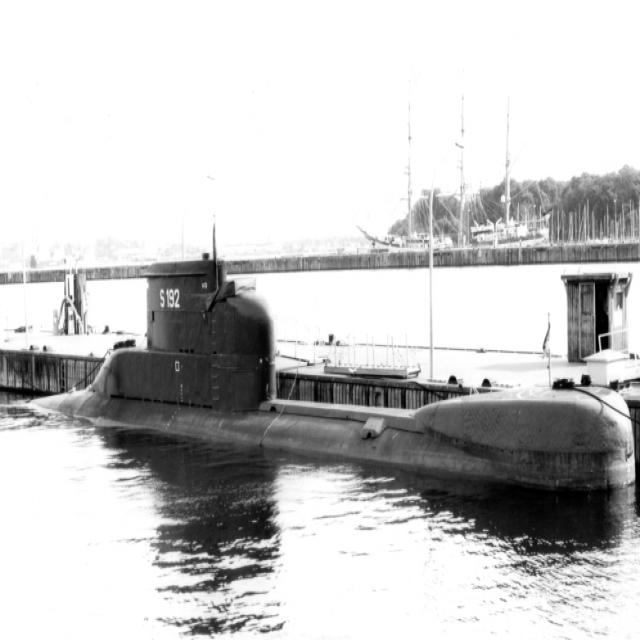submarine: (14, 253, 640, 489)
